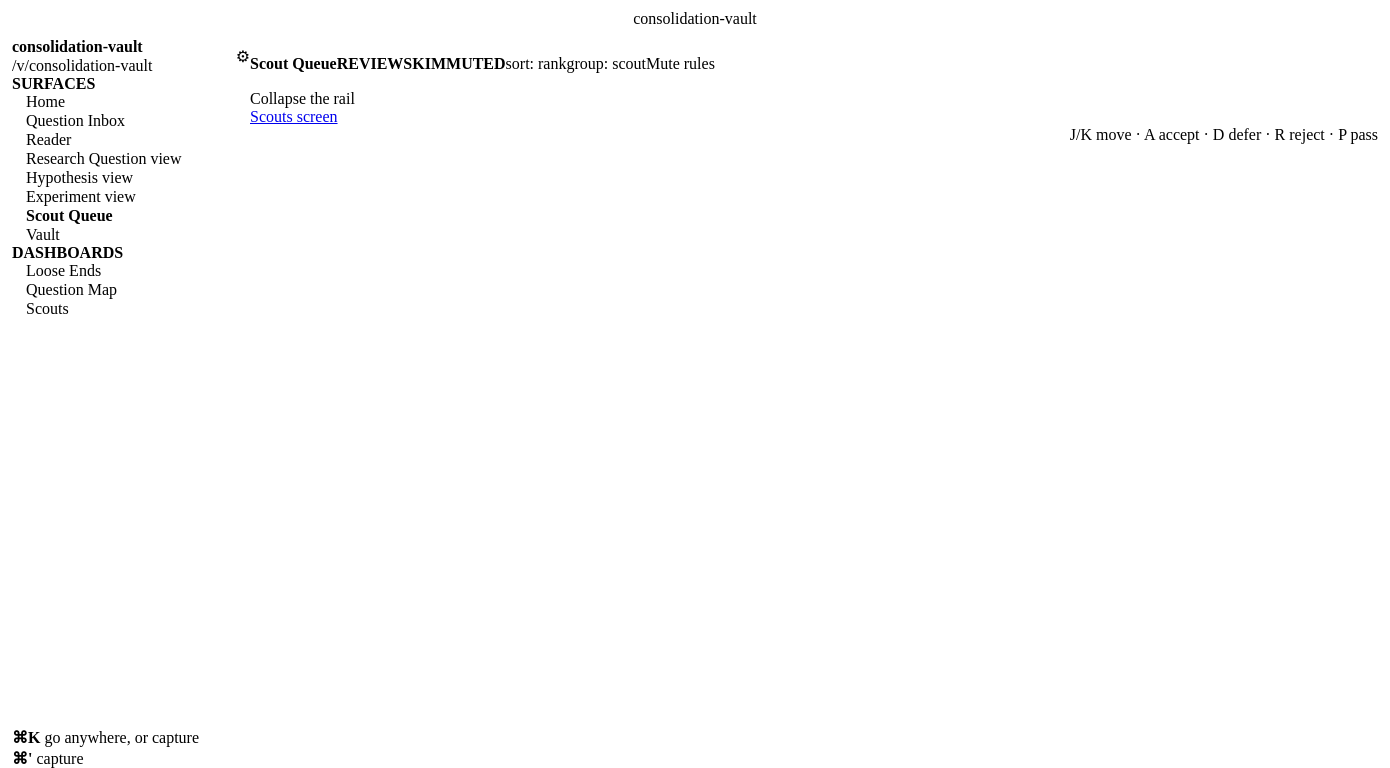
it: the Scout Queue — a dropped Scout › marks its lines in Skim as it marks its cards in Review
What coordinates should you click on to do the following:
click the tab "Skim"
I would click on:
 (425, 64)
Its box is [403, 55, 446, 73].
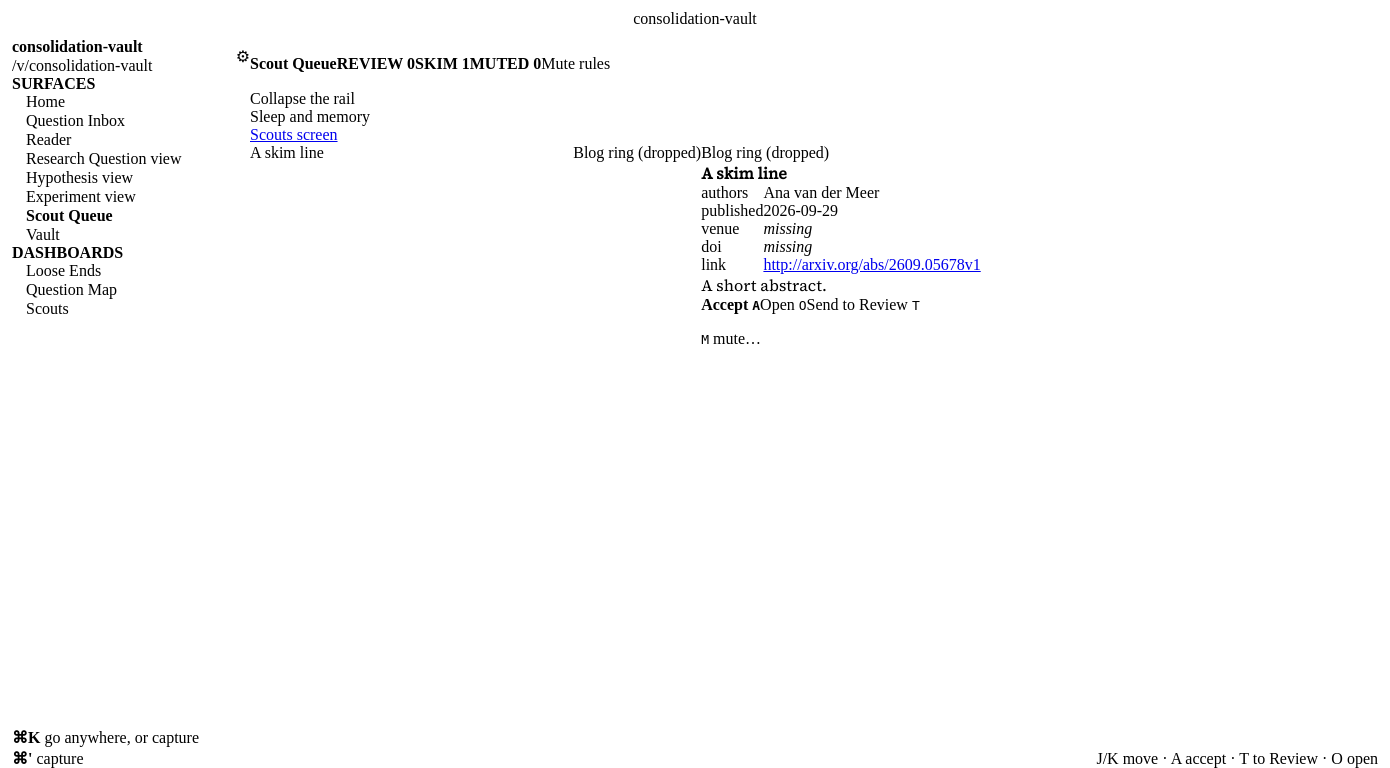
Result: the button "A skim line Blog ring (dropped)" is shown at [250, 144, 701, 162]
